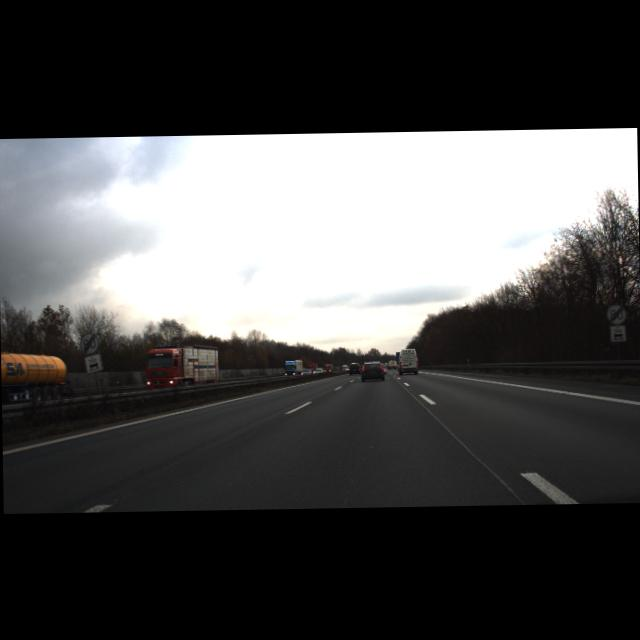other: (605, 302, 625, 324), (80, 332, 99, 354)
